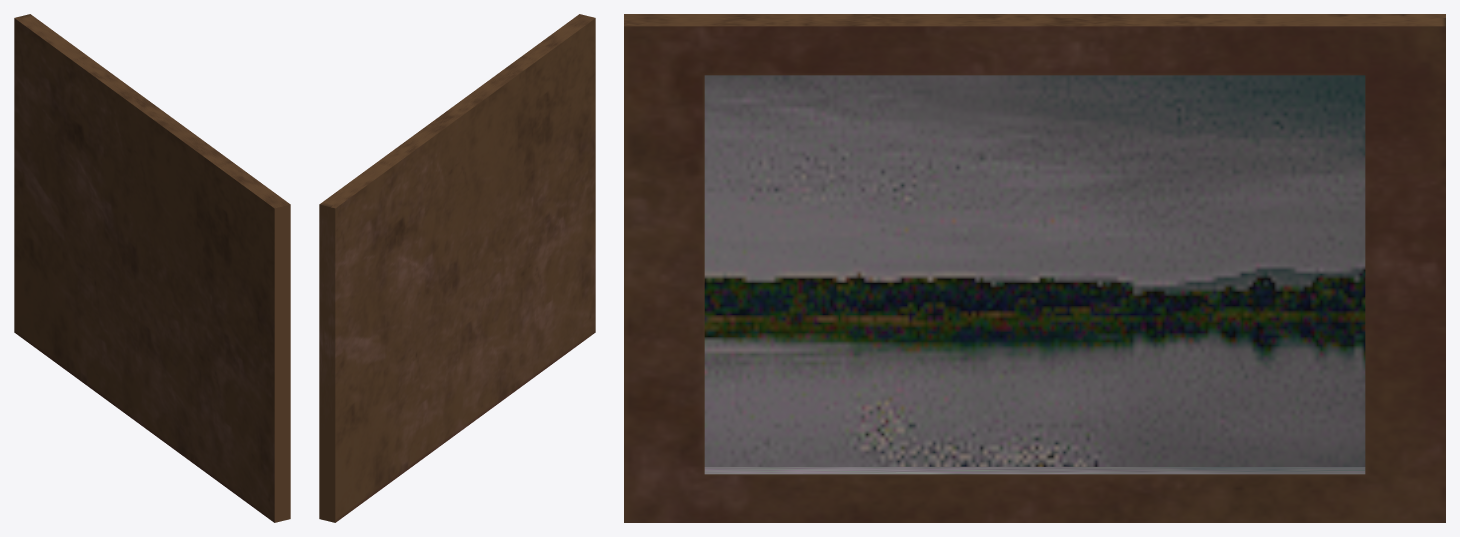
The model's file is quadro2.glb.
3 views of the same model, side by side, from view 1: azimuth 30°, elevation 25°; view 2: azimuth 150°, elevation 25°; view 3: azimuth 270°, elevation 25° (orthographic). The views are drawn at different scales.
Visible parts, largest first — view 1: Cube.013; view 2: Cube.013; view 3: Cube.013.
Part boxes in pixels (x1=…): Cube.013: x1=14, y1=14, x2=290, y2=522; Cube.013: x1=319, y1=14, x2=595, y2=522; Cube.013: x1=624, y1=14, x2=1445, y2=522.
Size of the model in its own units: 0.0538 by 1 by 1.5.
Materials: 2 (2 with a texture image).
